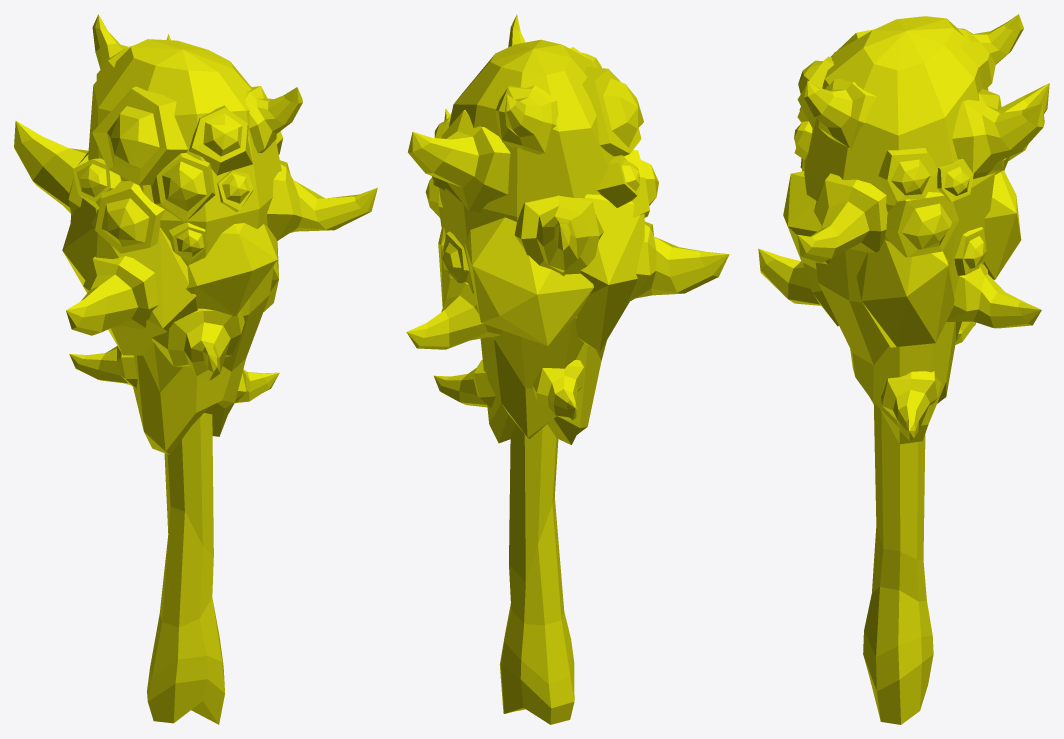
The model's file is SM_Wep_MutantGuy_01.glb.
3 renders of one model, left to right at view 1: azimuth 30°, elevation 25°; view 2: azimuth 150°, elevation 25°; view 3: azimuth 270°, elevation 25°, orthographic.
Visible parts, largest first — view 1: SM_Wep_MutantGuy_01; view 2: SM_Wep_MutantGuy_01; view 3: SM_Wep_MutantGuy_01.
Part boxes in pixels (left/top/right/bottom): SM_Wep_MutantGuy_01: left=14, top=14, right=377, bottom=724; SM_Wep_MutantGuy_01: left=406, top=14, right=729, bottom=724; SM_Wep_MutantGuy_01: left=758, top=14, right=1049, bottom=724.
Bounding box in the file's own units: 0.5589 × 1.21 × 0.4694.
